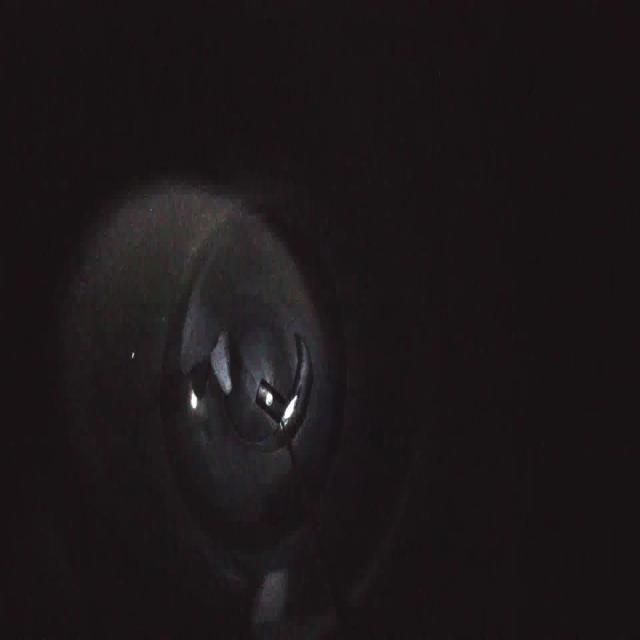impurity: (206, 329, 235, 399)
